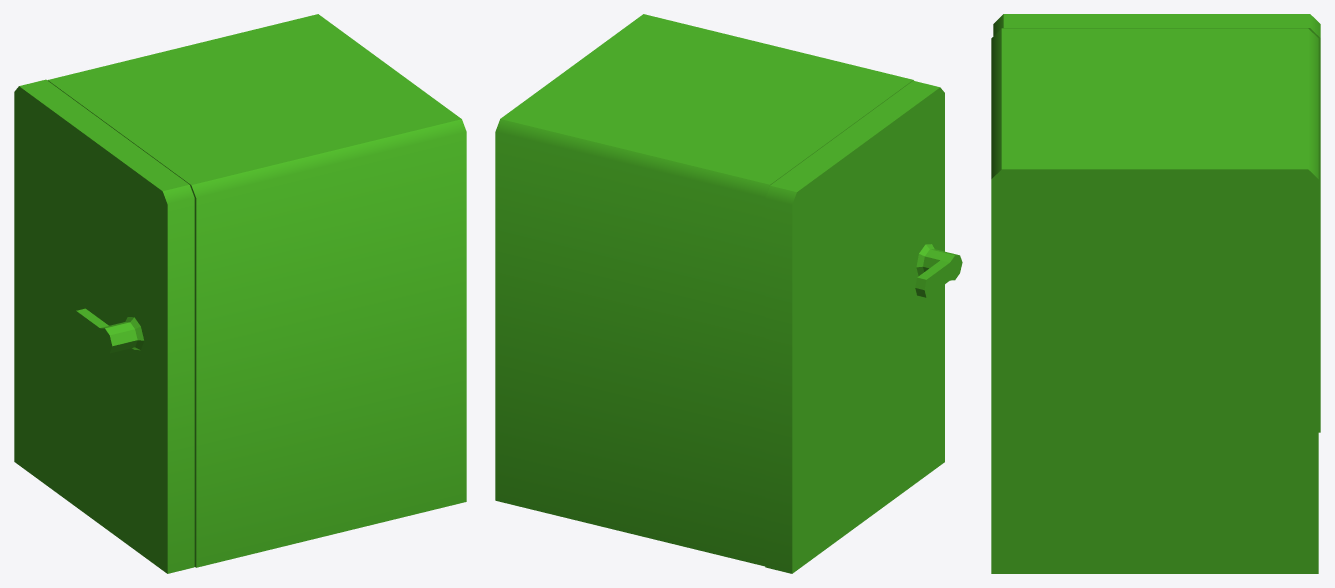
File: lodówka.fbx
3 renders of one model, left to right at view 1: azimuth 30°, elevation 25°; view 2: azimuth 150°, elevation 25°; view 3: azimuth 270°, elevation 25°, orthographic. The views are drawn at different scales.
Parts seen in each view (by area): view 1: Lodówka, Lodówka_dwi; view 2: Lodówka, Lodówka_dwi; view 3: Lodówka, Lodówka_dwi.
Boxes of the visible parts, x1,y1,x2,y2 form: Lodówka: [47, 14, 466, 567]; Lodówka_dwi: [14, 79, 194, 573]; Lodówka: [495, 14, 913, 566]; Lodówka_dwi: [765, 80, 962, 573]; Lodówka: [991, 28, 1318, 573]; Lodówka_dwi: [993, 14, 1320, 432].
Size of the model in its own units: 38.78 by 41.98 by 30.95.
